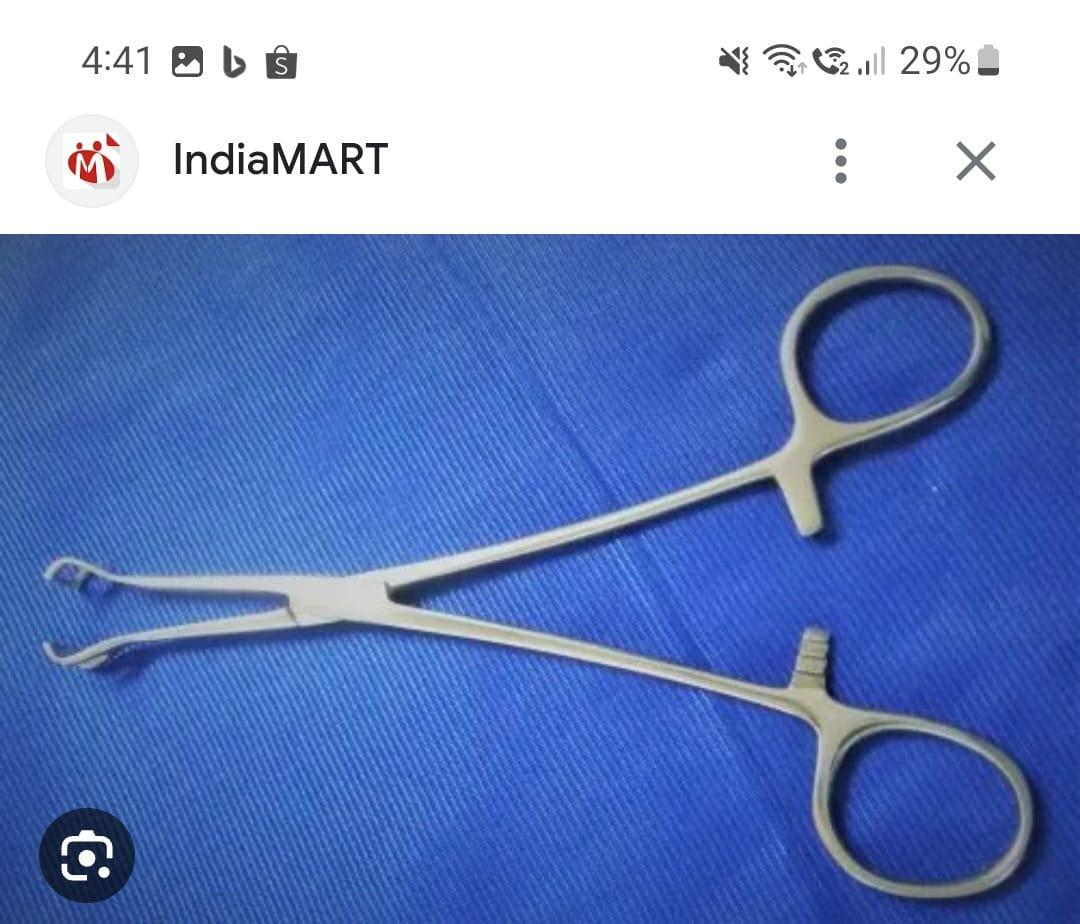Babcock Forceps: (36, 260, 1051, 920)
